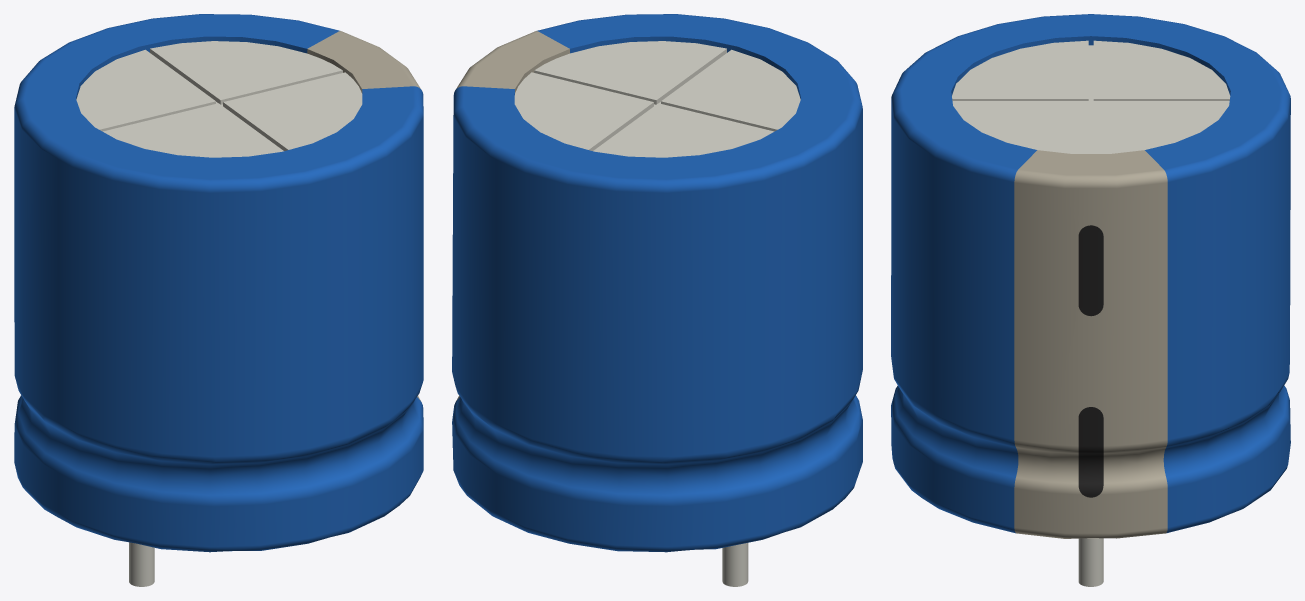
Rendered from Capacitor_THT__CP_Radial_D8.0mm_P3.50mm.glb.
3 renders of one model, left to right at view 1: azimuth 30°, elevation 25°; view 2: azimuth 150°, elevation 25°; view 3: azimuth 270°, elevation 25°, orthographic. The views are drawn at different scales.
Visible parts, largest first — view 1: CP_Radial_D80mm_P350mm; view 2: CP_Radial_D80mm_P350mm; view 3: CP_Radial_D80mm_P350mm.
Boxes of the visible parts, <box> form: CP_Radial_D80mm_P350mm: <box>14,14,423,586</box>; CP_Radial_D80mm_P350mm: <box>452,14,862,586</box>; CP_Radial_D80mm_P350mm: <box>891,14,1290,586</box>.
Bounding box in the file's own units: 0.008 × 0.01 × 0.00798.
